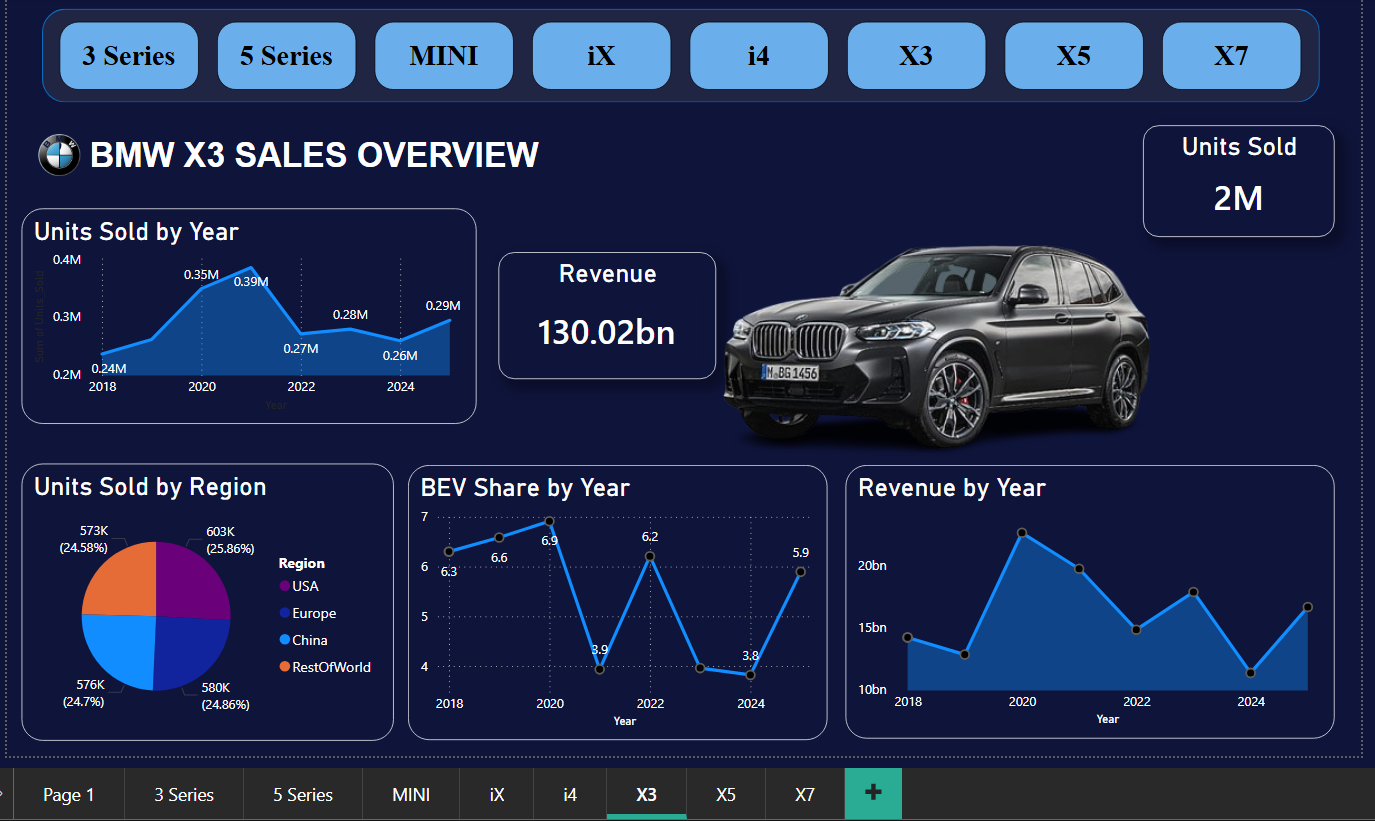

The page's visual inventory and layout, read from the dashboard file:
{"tool":"powerbi","page":{"name":"X3","canvas":[1280,720],"ordinal":6},"visuals":[{"type":"shape","box":[33.7,13.8,1207.6,88.8],"z":0},{"type":"actionButton","box":[49,26,131.6,64.3],"z":1000},{"type":"actionButton","box":[197.9,26,131.6,64.3],"z":2000},{"type":"actionButton","box":[346.7,26,131.6,64.3],"z":3000},{"type":"actionButton","box":[495.6,26,131.6,64.3],"z":4000},{"type":"actionButton","box":[644.5,26,131.6,64.3],"z":5000},{"type":"actionButton","box":[793.4,26,131.6,64.3],"z":6000},{"type":"actionButton","box":[942.3,26,131.6,64.3],"z":7000},{"type":"actionButton","box":[1091.2,26,131.6,64.3],"z":8000},{"type":"lineChart","title":"Units Sold by Year","fields":{"Y":["Sum(Sheet1.Units_Sold)"],"Category":["Sheet1.Year"]},"box":[13.8,202,430.1,203.6],"z":9000},{"type":"pieChart","title":"Units Sold by Region","fields":{"Category":["Sheet1.Region"],"Y":["Sum(Sheet1.Units_Sold)"]},"box":[13.8,443.8,352,261.7],"z":10000},{"type":"lineChart","title":"BEV Share by Year","fields":{"Y":["Avg(Sheet1.BEV_Share_%)"],"Category":["Sheet1.Year"]},"box":[379.6,445.4,396.4,260.2],"z":11000},{"type":"cardVisual","title":"Units Sold","fields":{"Data":["Sum(Sheet1.Units_Sold)"]},"box":[1073.9,124.6,181.2,105.8],"z":12000},{"type":"image","box":[577.6,57.6,702.2,478],"z":13000},{"type":"areaChart","title":"Revenue by Year","fields":{"Category":["Sheet1.Year"],"Y":["Sum(Sheet1.Revenue)"]},"box":[792.8,445.4,462.2,258.7],"z":14000},{"type":"image","box":[24.5,131.6,49,39.8],"z":15000},{"type":"cardVisual","title":"Revenue","fields":{"Data":["Sum(Sheet1.Revenue)"]},"box":[464,244.4,205.5,119.9],"z":16000},{"type":"textbox","box":[73.2,129.2,554.3,48.3],"z":17000}]}

Visuals, with their boxes on the page's 1280x720 design canvas (x1, y1, x2, y2). These are canvas units, not pixel positions in the 1375x821 screenshot, which may show the page scaled, cropped or inside an application window:
shape: 34, 14, 1241, 103
actionButton: 49, 26, 181, 90
actionButton: 198, 26, 330, 90
actionButton: 347, 26, 478, 90
actionButton: 496, 26, 627, 90
actionButton: 644, 26, 776, 90
actionButton: 793, 26, 925, 90
actionButton: 942, 26, 1074, 90
actionButton: 1091, 26, 1223, 90
"Units Sold by Year" lineChart: 14, 202, 444, 406
"Units Sold by Region" pieChart: 14, 444, 366, 706
"BEV Share by Year" lineChart: 380, 445, 776, 706
"Units Sold" cardVisual: 1074, 125, 1255, 230
image: 578, 58, 1280, 536
"Revenue by Year" areaChart: 793, 445, 1255, 704
image: 24, 132, 74, 171
"Revenue" cardVisual: 464, 244, 670, 364
textbox: 73, 129, 628, 178
